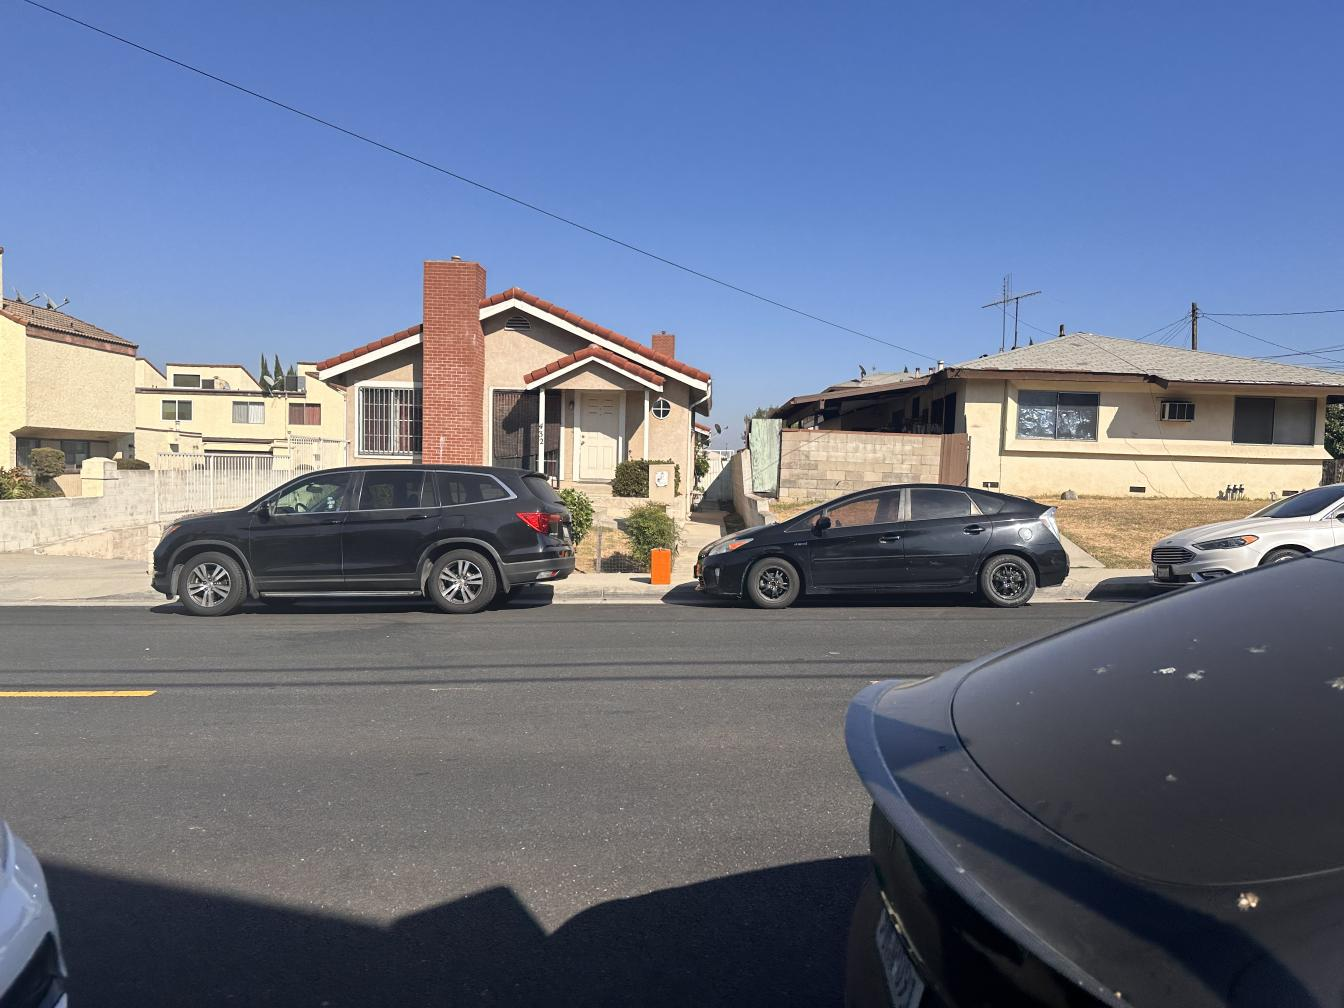curbs-laRr: (577, 589, 687, 605), (1079, 584, 1129, 599)
orange box: (651, 548, 671, 586)
